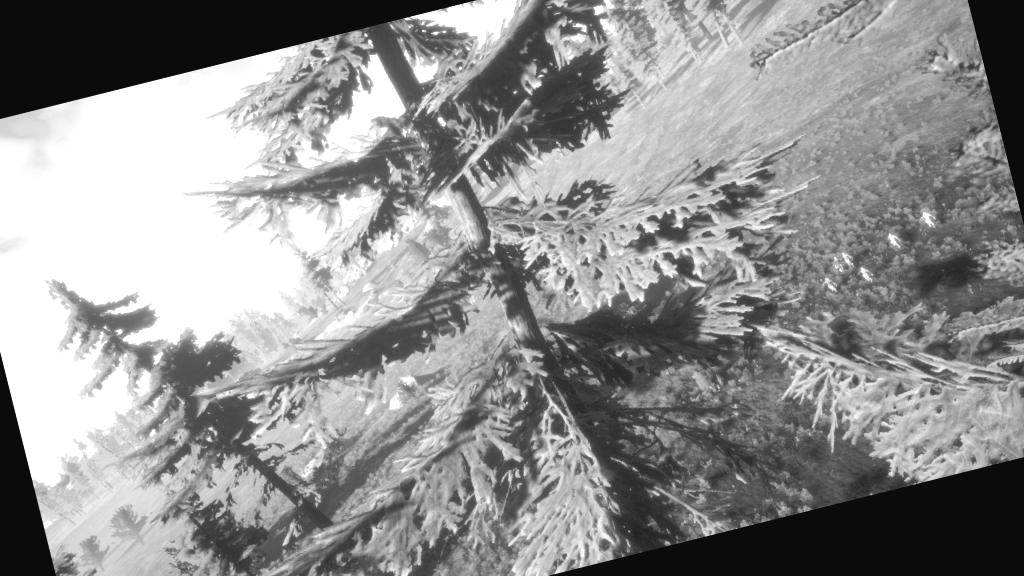human: (912, 205, 944, 239), (853, 260, 878, 293), (816, 272, 843, 302), (881, 228, 906, 258), (838, 246, 860, 274), (826, 250, 848, 277)
